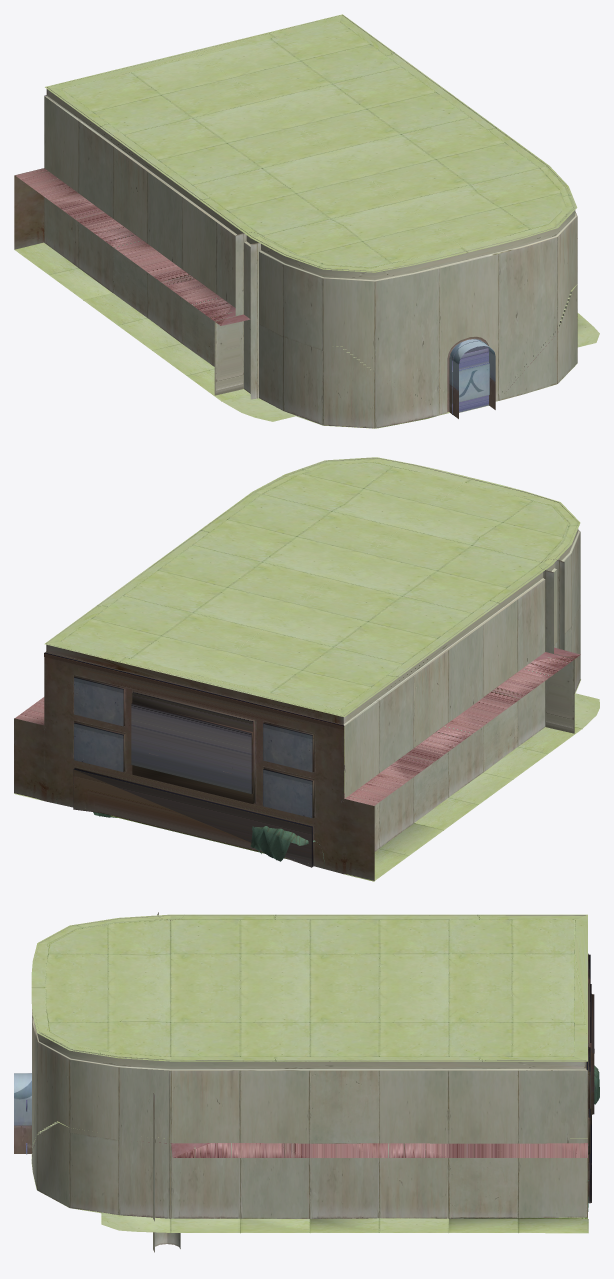
Rendered from room-transformed.glb.
3 views of the same model, one above another, from view 1: azimuth 30°, elevation 25°; view 2: azimuth 150°, elevation 25°; view 3: azimuth 270°, elevation 25° (orthographic).
Visible parts, largest first — view 1: 24_Mesh1_0_0_0_root_root_24_Mesh1_0_0_0_root_root_0, 24_Mesh4_0_0_0_24_Mesh4_0_0_0_0, 24_Mesh24_0_0_0_24_Mesh23_0_0_0_0, 24_Mesh28_0_0_0_24_Mesh27_0_0_0_0, 24_Mesh7_0_0_0_24_Mesh7_0_0_0_0, 24_Mesh5_0_0_0_24_Mesh5_0_0_0_0; view 2: 24_Mesh1_0_0_0_root_root_24_Mesh1_0_0_0_root_root_0, 24_Mesh5_0_0_0_24_Mesh5_0_0_0_0, 24_Mesh4_0_0_0_24_Mesh4_0_0_0_0, 24_Mesh24_0_0_0_24_Mesh23_0_0_0_0, 24_Mesh28_0_0_0_24_Mesh27_0_0_0_0, 24_Mesh43_0_0_0_24_Mesh14_0_0_0_0; view 3: 24_Mesh1_0_0_0_root_root_24_Mesh1_0_0_0_root_root_0, 24_Mesh4_0_0_0_24_Mesh4_0_0_0_0, 24_Mesh28_0_0_0_24_Mesh27_0_0_0_0, 24_Mesh7_0_0_0_24_Mesh7_0_0_0_0, 24_Mesh5_0_0_0_24_Mesh5_0_0_0_0, 24_Mesh24_0_0_0_24_Mesh23_0_0_0_0.
Part boxes in pixels (left/top/right/bottom): 24_Mesh1_0_0_0_root_root_24_Mesh1_0_0_0_root_root_0: left=14, top=14, right=599, bottom=428; 24_Mesh4_0_0_0_24_Mesh4_0_0_0_0: left=44, top=15, right=577, bottom=428; 24_Mesh24_0_0_0_24_Mesh23_0_0_0_0: left=44, top=168, right=260, bottom=399; 24_Mesh28_0_0_0_24_Mesh27_0_0_0_0: left=15, top=168, right=250, bottom=325; 24_Mesh7_0_0_0_24_Mesh7_0_0_0_0: left=447, top=336, right=495, bottom=418; 24_Mesh5_0_0_0_24_Mesh5_0_0_0_0: left=14, top=89, right=46, bottom=249; 24_Mesh1_0_0_0_root_root_24_Mesh1_0_0_0_root_root_0: left=14, top=457, right=599, bottom=881; 24_Mesh5_0_0_0_24_Mesh5_0_0_0_0: left=14, top=644, right=374, bottom=880; 24_Mesh4_0_0_0_24_Mesh4_0_0_0_0: left=45, top=458, right=580, bottom=797; 24_Mesh24_0_0_0_24_Mesh23_0_0_0_0: left=349, top=559, right=574, bottom=851; 24_Mesh28_0_0_0_24_Mesh27_0_0_0_0: left=15, top=647, right=580, bottom=805; 24_Mesh43_0_0_0_24_Mesh14_0_0_0_0: left=44, top=729, right=343, bottom=868; 24_Mesh1_0_0_0_root_root_24_Mesh1_0_0_0_root_root_0: left=31, top=914, right=588, bottom=1233; 24_Mesh4_0_0_0_24_Mesh4_0_0_0_0: left=32, top=915, right=587, bottom=1218; 24_Mesh28_0_0_0_24_Mesh27_0_0_0_0: left=137, top=1141, right=587, bottom=1157; 24_Mesh7_0_0_0_24_Mesh7_0_0_0_0: left=14, top=1073, right=31, bottom=1154; 24_Mesh5_0_0_0_24_Mesh5_0_0_0_0: left=586, top=953, right=594, bottom=1203; 24_Mesh24_0_0_0_24_Mesh23_0_0_0_0: left=153, top=912, right=180, bottom=1252.
Size of the model in its own units: 5.65 by 2.82 by 7.92.
14 materials, 14 textured.
